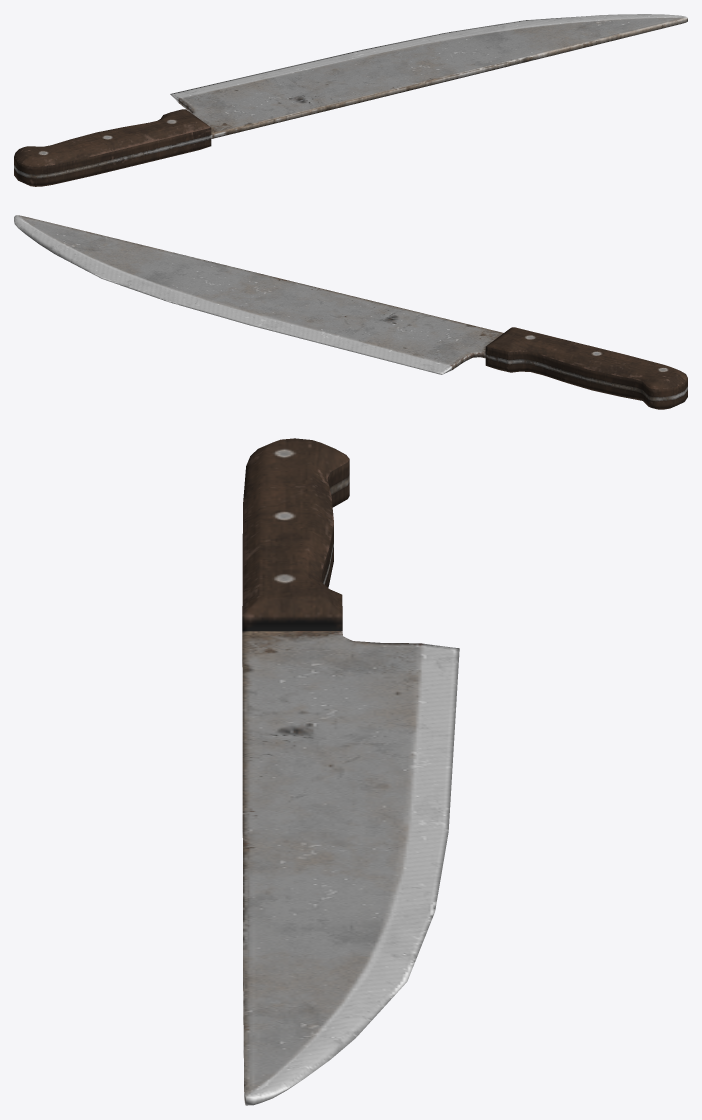
Rendered from SM_Kitchenware03_2_LOD0.glb.
The picture shows the model from 3 angles, top to bottom: view 1: azimuth 30°, elevation 25°; view 2: azimuth 150°, elevation 25°; view 3: azimuth 270°, elevation 25°; orthographic projection. The views are drawn at different scales.
Visible parts, largest first — view 1: SM_Kitchenware03_2_LOD0; view 2: SM_Kitchenware03_2_LOD0; view 3: SM_Kitchenware03_2_LOD0.
Boxes of the visible parts, x1,y1,x2,y2 form: SM_Kitchenware03_2_LOD0: (14, 14, 687, 186); SM_Kitchenware03_2_LOD0: (14, 215, 687, 409); SM_Kitchenware03_2_LOD0: (242, 438, 459, 1105).
Bounding box in the file's own units: 0.55 × 0.0231 × 0.0786.
1 material, 1 textured.
